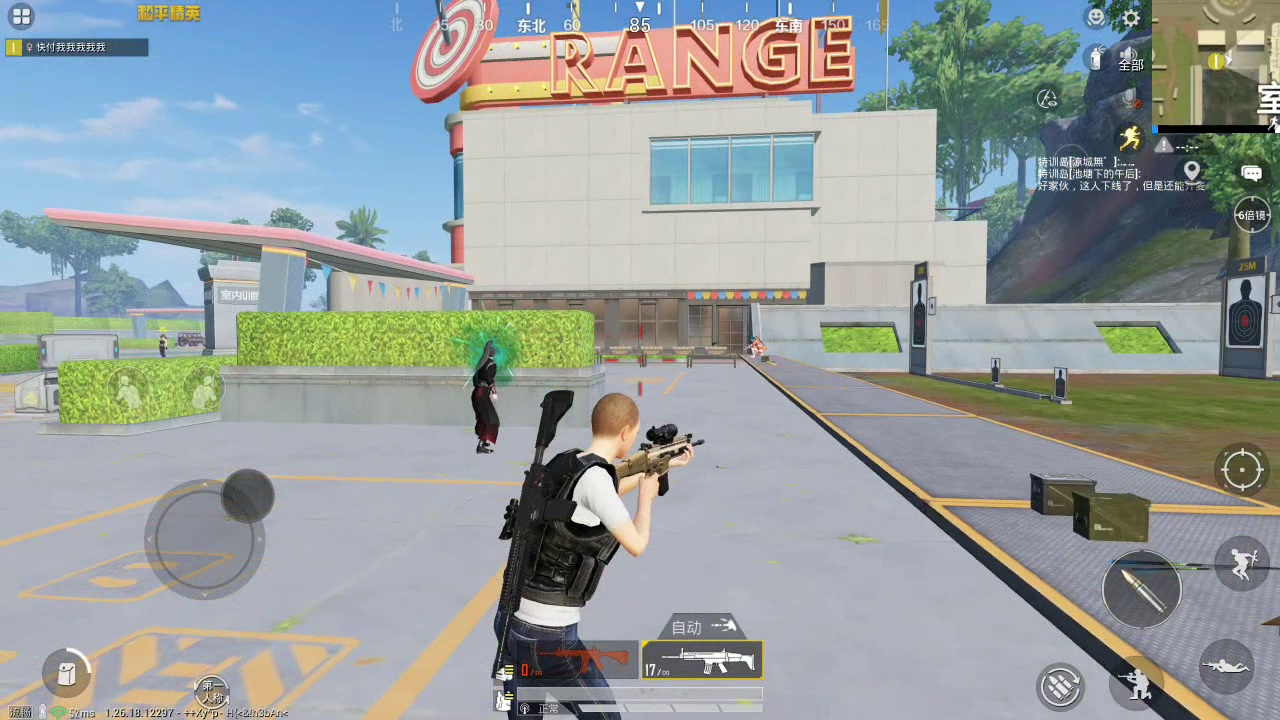enemy: (466, 342, 509, 455), (747, 335, 767, 360), (153, 330, 170, 355)
